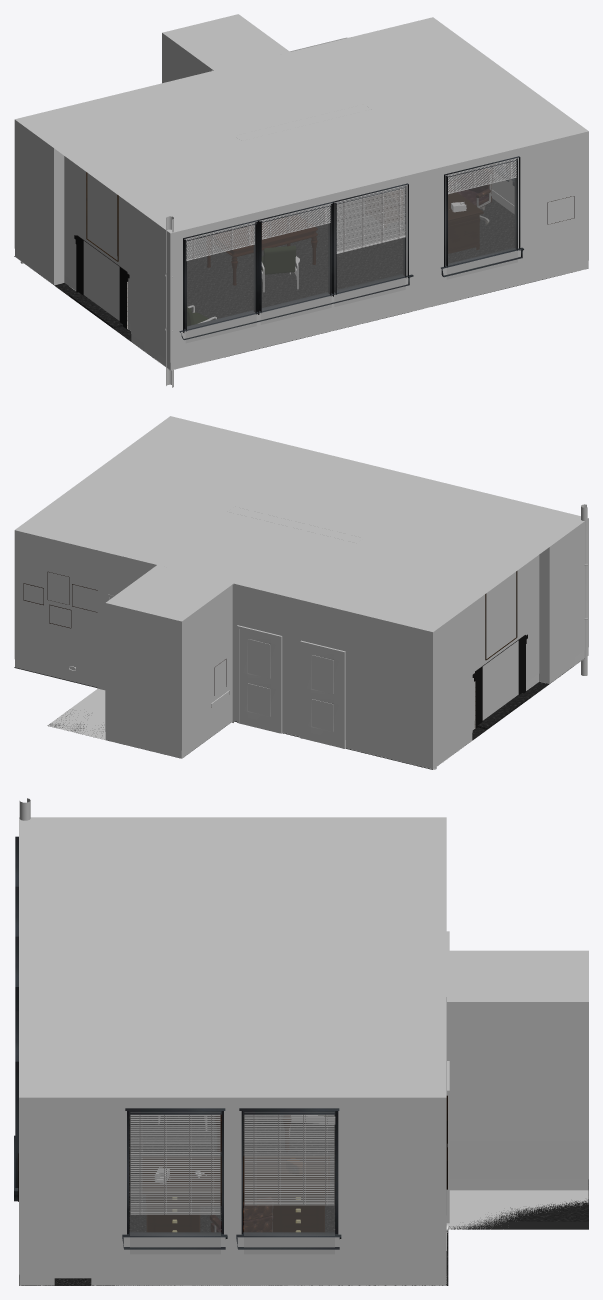
The model's file is PresidentsAlyssa.fbx.
The picture shows the model from 3 angles, top to bottom: view 1: azimuth 30°, elevation 25°; view 2: azimuth 150°, elevation 25°; view 3: azimuth 270°, elevation 25°; orthographic projection. The views are drawn at different scales.
Visible parts, largest first — view 1: walls, floor1, glass6, glass4, glass2, glass1, blinds7, table, deskBase, blinds, windowSillLower, blinds6 (+9 smaller); view 2: walls, door4, door3, floor1, fireplace, doorFrame3, doorFrame2, pipes; view 3: walls, glass3, glass5, blinds8, blinds9, floor1, deskBase, deskTop, bathroomFloor, windowBase3, windowBase5, windowSillLower1 (+2 smaller).
Part boxes in pixels (box(x1,y1,x2,y2)): walls: box(14, 14, 588, 370); floor1: box(14, 175, 572, 360); glass6: box(447, 159, 517, 279); glass4: box(261, 205, 331, 324); glass2: box(186, 223, 256, 342); glass1: box(334, 190, 405, 306); blinds7: box(336, 185, 405, 253); table: box(206, 214, 317, 285); deskBase: box(365, 194, 480, 253); blinds: box(186, 222, 254, 260); windowSillLower: box(179, 274, 413, 339); blinds6: box(448, 158, 516, 194); walls: box(14, 416, 588, 769); door4: box(302, 644, 342, 748); door3: box(239, 628, 278, 732); floor1: box(14, 658, 584, 769); fireplace: box(472, 634, 527, 728); doorFrame3: box(300, 640, 345, 748); doorFrame2: box(237, 625, 282, 733); pipes: box(581, 504, 587, 675); walls: box(19, 817, 588, 1285); glass3: box(130, 1115, 220, 1253); glass5: box(244, 1115, 334, 1253); blinds8: box(130, 1112, 220, 1214); blinds9: box(244, 1112, 334, 1205); floor1: box(19, 1114, 448, 1285); deskBase: box(146, 1195, 324, 1232); deskTop: box(142, 1156, 329, 1194); bathroomFloor: box(448, 1179, 588, 1229); windowBase3: box(239, 1108, 339, 1233); windowBase5: box(125, 1108, 225, 1233); windowSillLower1: box(236, 1232, 341, 1249).
Size of the model in its own units: 14.12 by 5.35 by 12.07.
